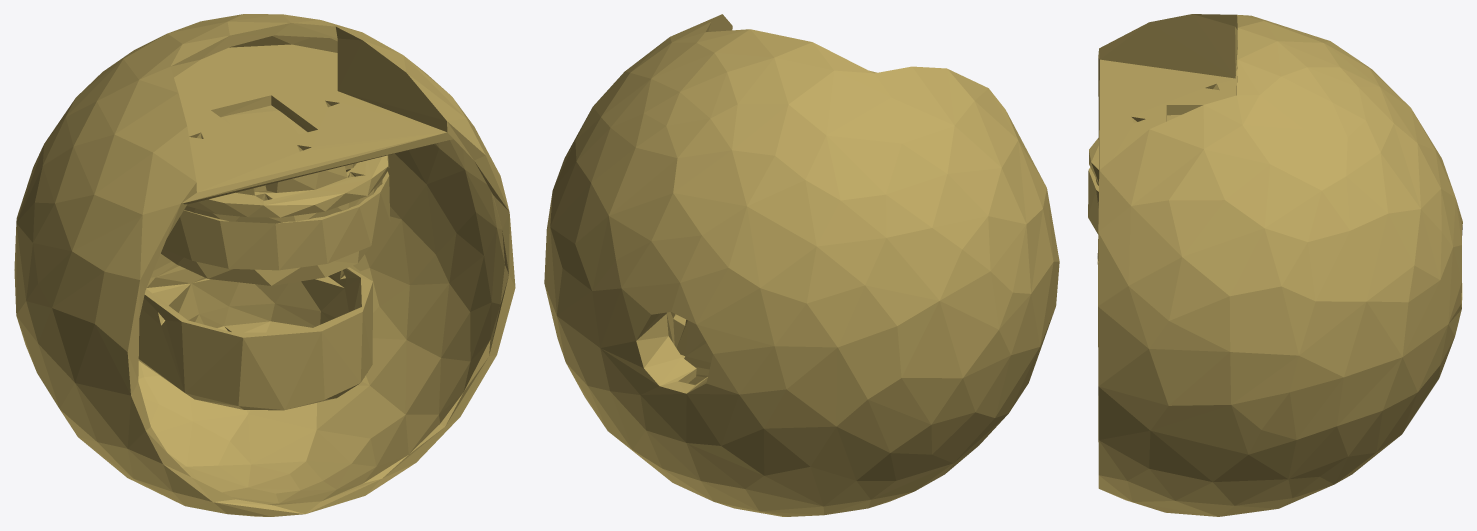
3 views of the same model, side by side, from view 1: azimuth 30°, elevation 25°; view 2: azimuth 150°, elevation 25°; view 3: azimuth 270°, elevation 25° (orthographic). The views are drawn at different scales.
Parts seen in each view (by area): view 1: M5; view 2: M5; view 3: M5.
Part boxes in pixels (bbox=[...]): M5: bbox=[14, 14, 515, 516]; M5: bbox=[544, 14, 1059, 516]; M5: bbox=[1088, 14, 1462, 516].
Bounding box in the file's own units: 0.1049 × 0.0782 × 0.1046.
